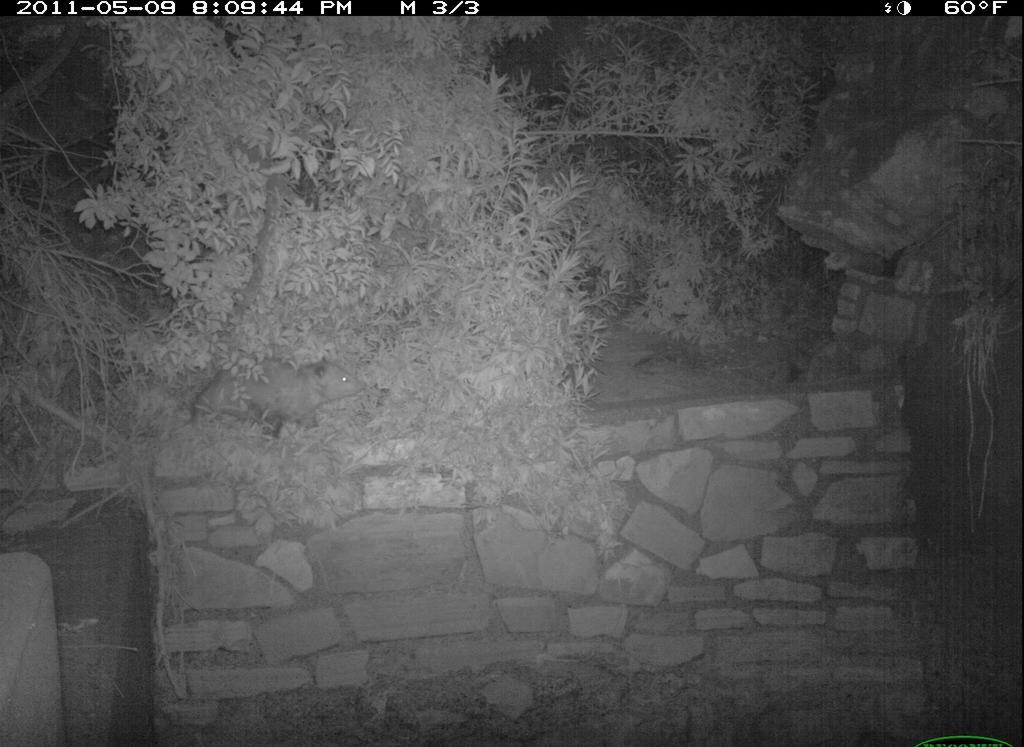opossum: (181, 350, 367, 450)
